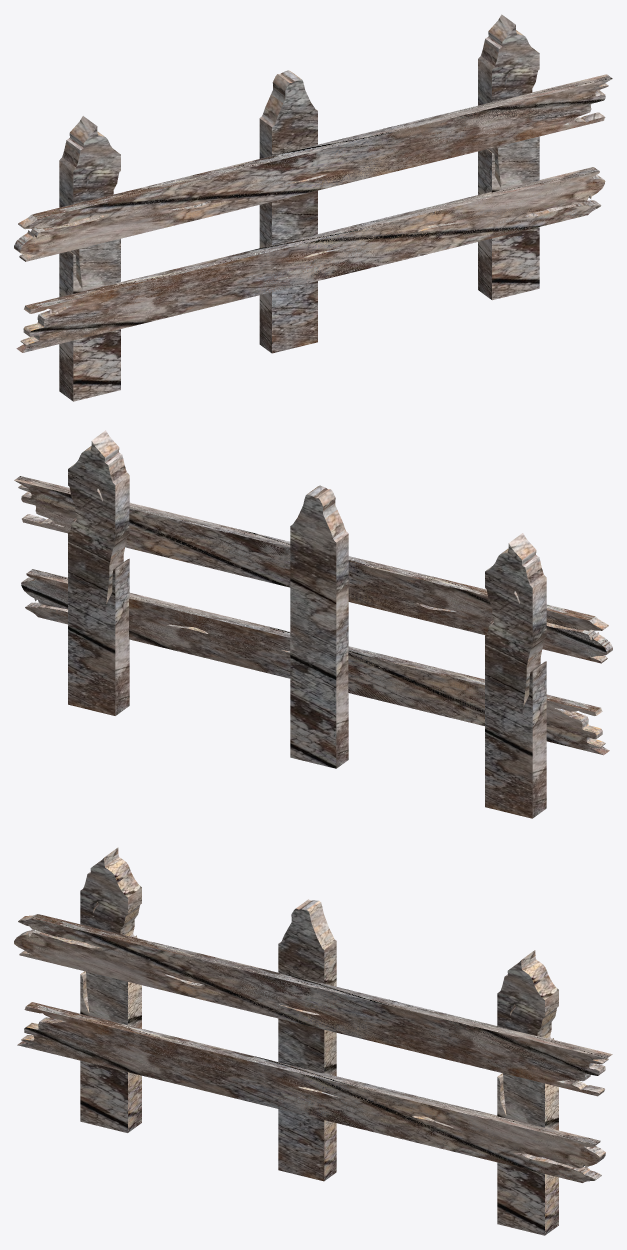
The model's file is Cerca.dae.
The picture shows the model from 3 angles, top to bottom: view 1: azimuth 30°, elevation 25°; view 2: azimuth 150°, elevation 25°; view 3: azimuth 330°, elevation 25°; orthographic projection.
Visible parts, largest first — view 1: Grupo_1 (×5); view 2: Grupo_1 (×5); view 3: Grupo_1 (×5).
Part boxes in pixels (box(x1,y1,x2,y2)): Grupo_1 (×5): box(14, 14, 612, 401); Grupo_1 (×5): box(14, 430, 612, 818); Grupo_1 (×5): box(14, 847, 612, 1235).
Size of the model in its own units: 76.03 by 4.6 by 33.07.
